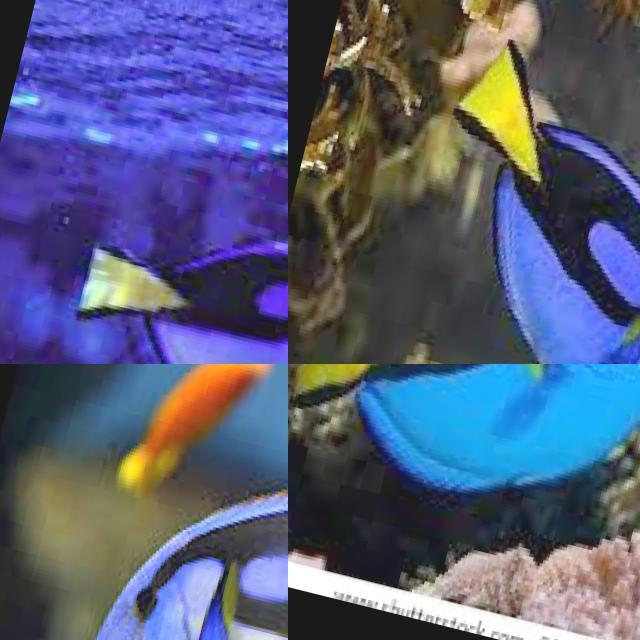BlueTang: (464, 43, 640, 364), (288, 364, 637, 498), (89, 497, 288, 640), (76, 232, 288, 364)
